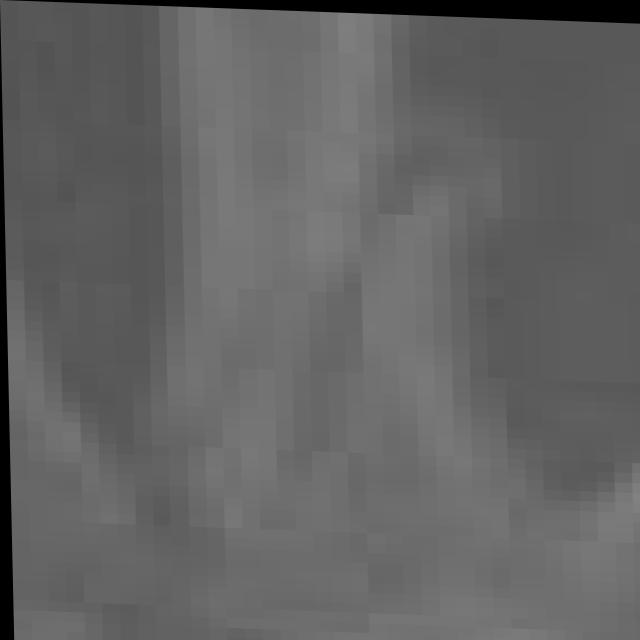fracture: (10, 10, 640, 640)
